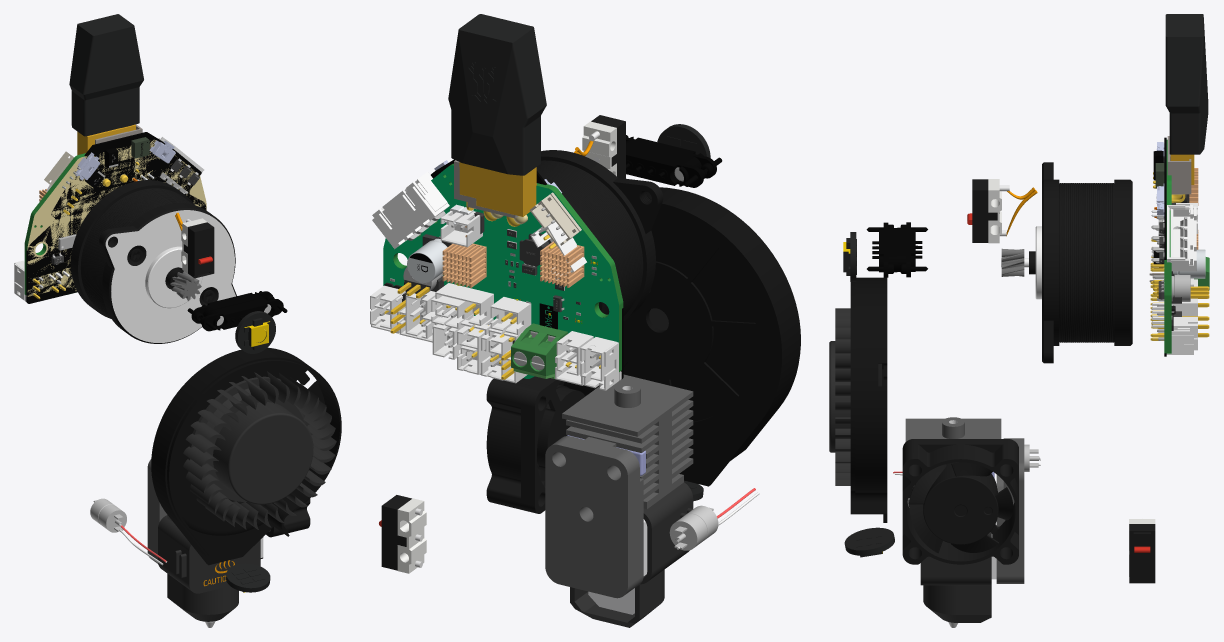
Rendered from Electronics.glb.
The picture shows the model from 3 angles, left to right: view 1: azimuth 30°, elevation 25°; view 2: azimuth 150°, elevation 25°; view 3: azimuth 270°, elevation 25°; orthographic projection. The views are drawn at different scales.
Bounding box in the file's own units: 0.0551 × 0.145 × 0.0833.
